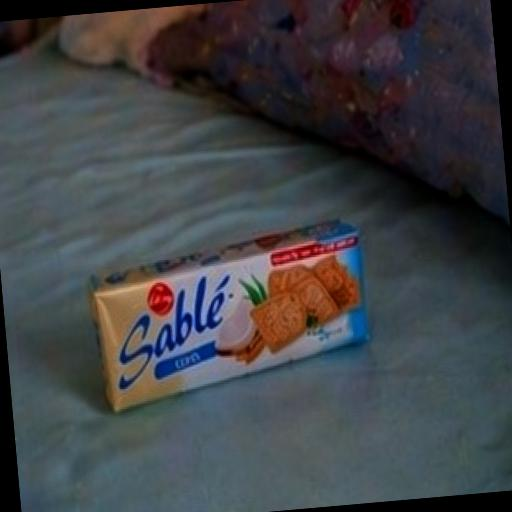sable: (26, 182, 421, 442)
